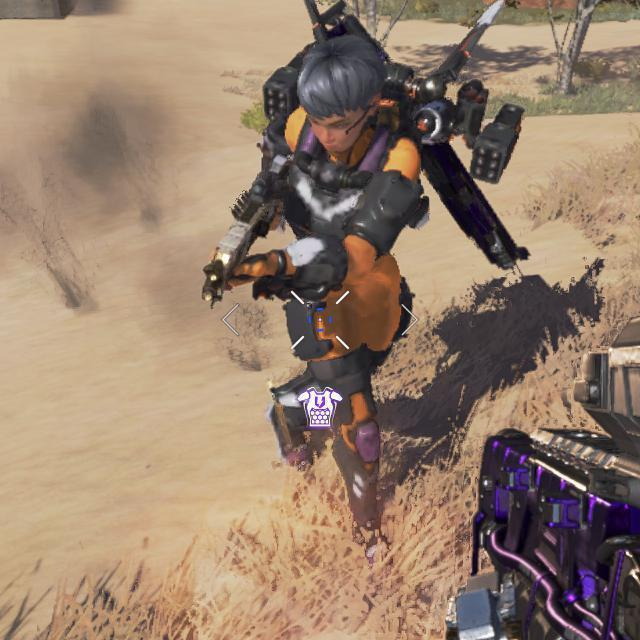avatar: (198, 32, 460, 531)
